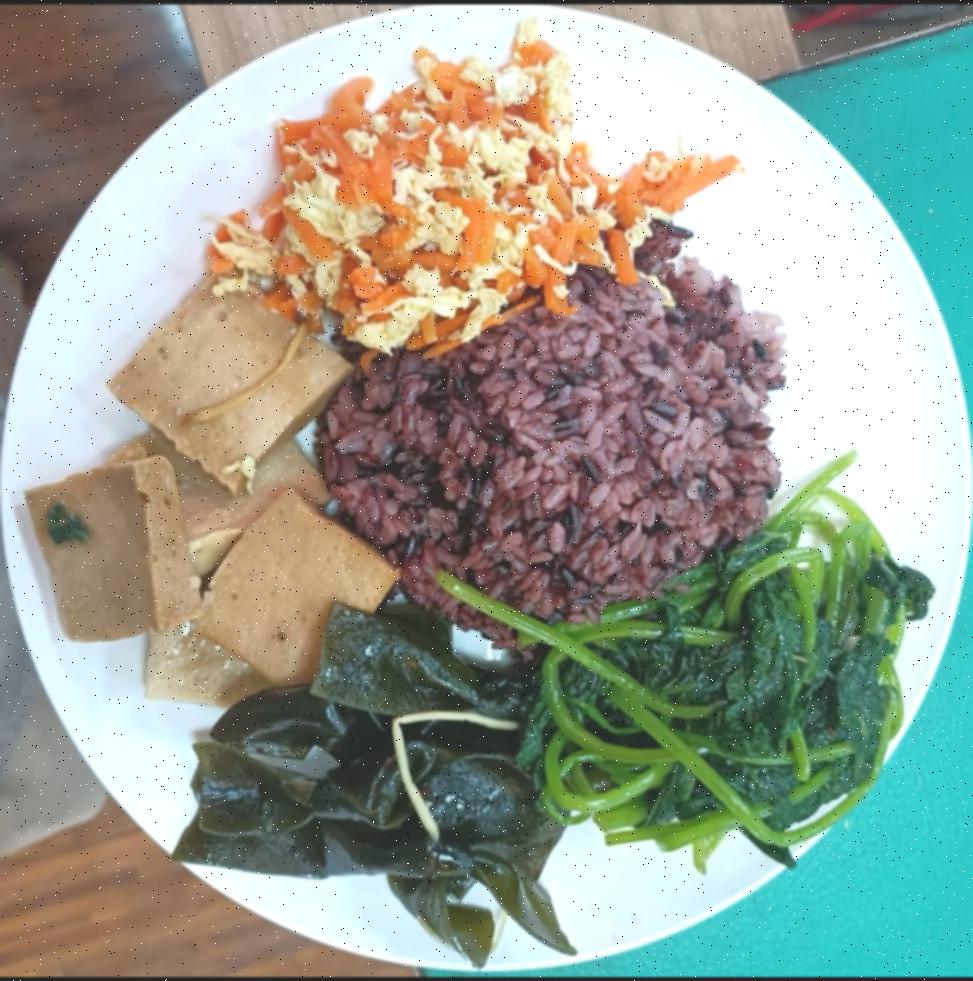plate: (0, 4, 967, 959)
purple rice: (316, 268, 796, 612)
side dish: (210, 30, 745, 356), (24, 268, 400, 716), (170, 608, 593, 949), (528, 516, 930, 873)
